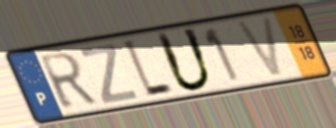1: (201, 26, 242, 85)
L: (119, 37, 178, 101)
R: (36, 50, 101, 112)
U: (153, 26, 216, 94)
V: (232, 13, 286, 81)
Z: (77, 41, 141, 106)
